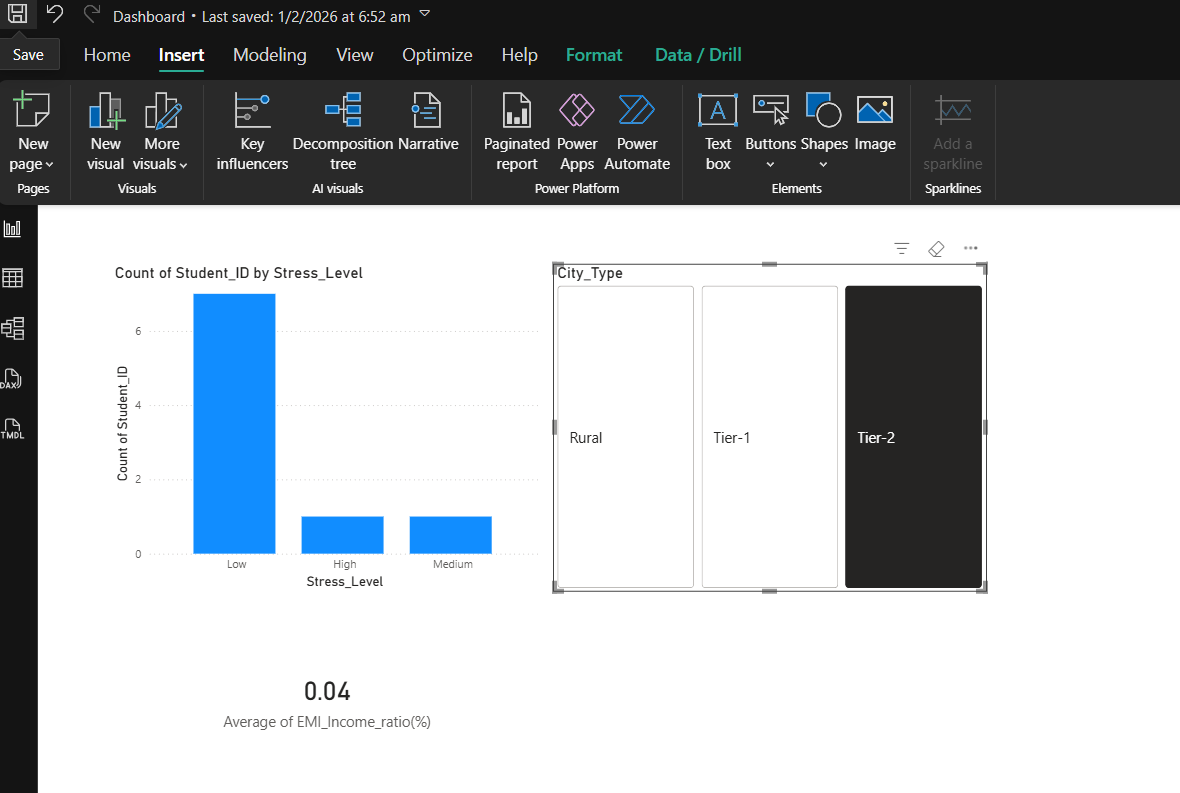

The page's visual inventory and layout, read from the dashboard file:
{"tool":"powerbi","page":{"name":"Page 1","canvas":[1280,720],"ordinal":0},"visuals":[{"type":"card","fields":{"Values":["Avg(Sheet1.EMI_Income_ratio(%))"]},"box":[183.9,467.9,267.6,149.6],"z":3},{"type":"clusteredColumnChart","fields":{"Y":["CountNonNull(Sheet1.Student_ID)"],"Category":["Sheet1.Stress_Level"]},"box":[79.6,64.5,476.2,362.3],"z":4},{"type":"advancedSlicerVisual","fields":{"Values":["Sheet1.City_Type"]},"box":[566,64,476,362],"z":5}]}

Visuals, with their boxes on the page's 1280x720 design canvas (x1, y1, x2, y2). These are canvas units, not pixel positions in the 1180x793 screenshot, which may show the page scaled, cropped or inside an application window:
card - Avg(Sheet1.EMI_Income_ratio(%)): x1=184 y1=468 x2=452 y2=618
clusteredColumnChart - CountNonNull(Sheet1.Student_ID) x Sheet1.Stress_Level: x1=80 y1=64 x2=556 y2=427
advancedSlicerVisual - Sheet1.City_Type: x1=566 y1=64 x2=1042 y2=426
